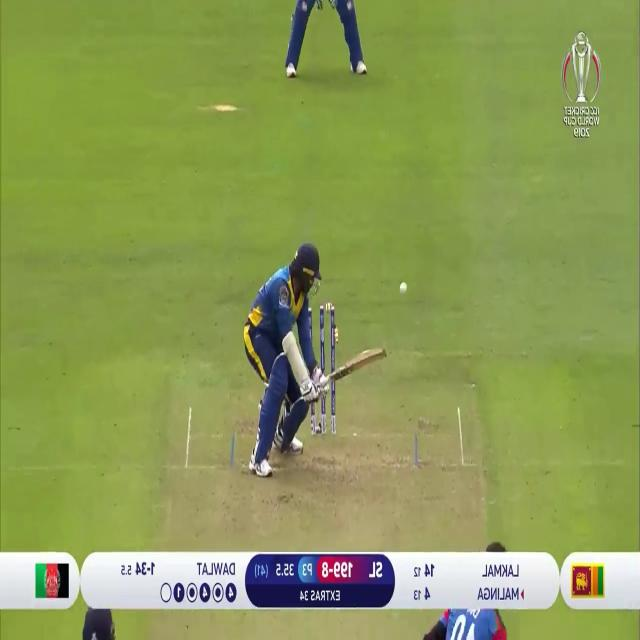ball: (398, 278, 408, 299)
